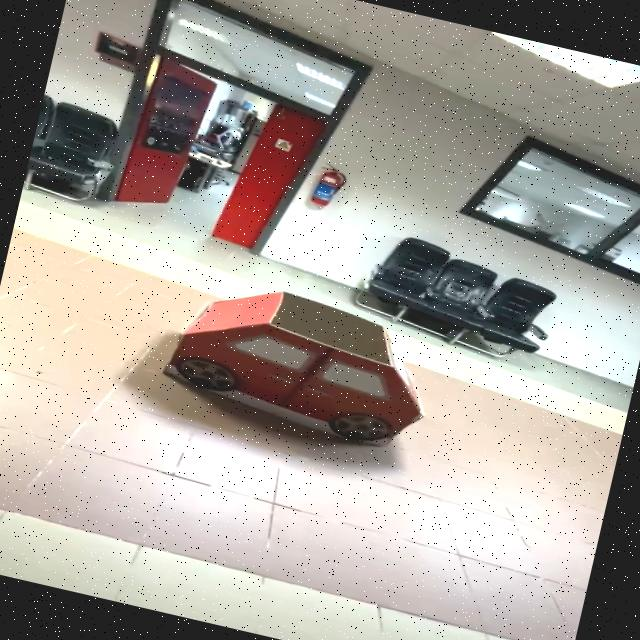red_car: (133, 247, 462, 469)
